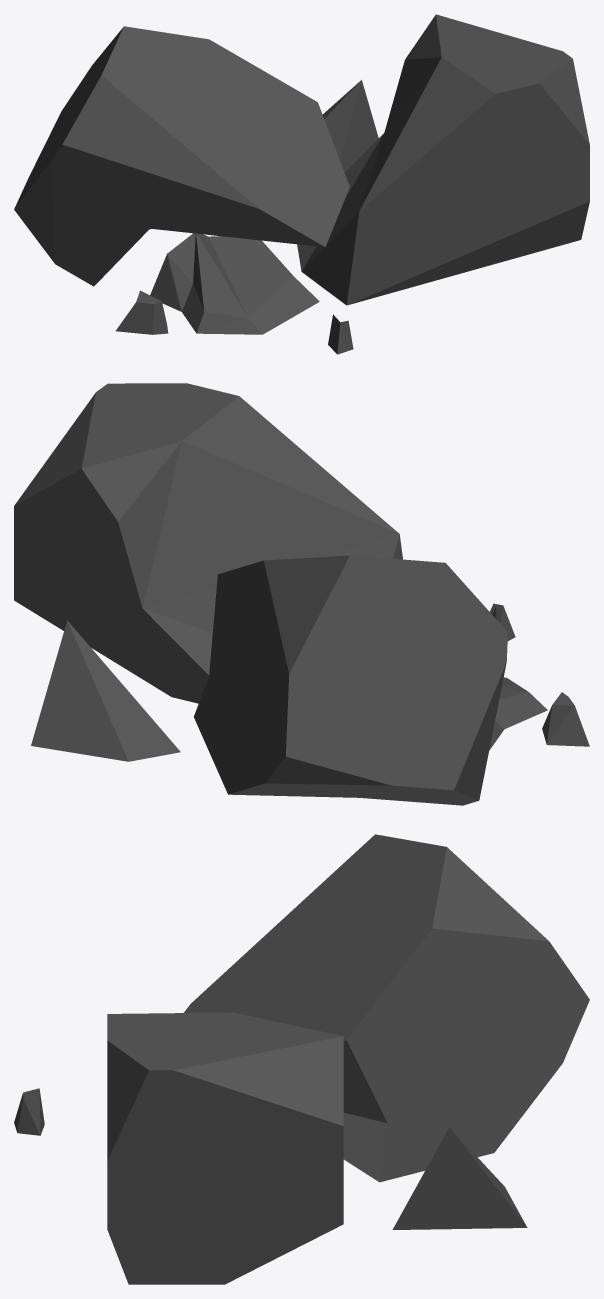
File: Brick_A_04.FBX
3 views of the same model, one above another, from view 1: azimuth 30°, elevation 25°; view 2: azimuth 150°, elevation 25°; view 3: azimuth 270°, elevation 25° (orthographic). The views are drawn at different scales.
Parts seen in each view (by area): view 1: Brick_A_04; view 2: Brick_A_04; view 3: Brick_A_04.
Part boxes in pixels (x1=…): Brick_A_04: x1=14, y1=14, x2=589, y2=354; Brick_A_04: x1=14, y1=383, x2=589, y2=805; Brick_A_04: x1=14, y1=834, x2=589, y2=1284.
Size of the model in its own units: 2.59 by 1.26 by 2.44.
